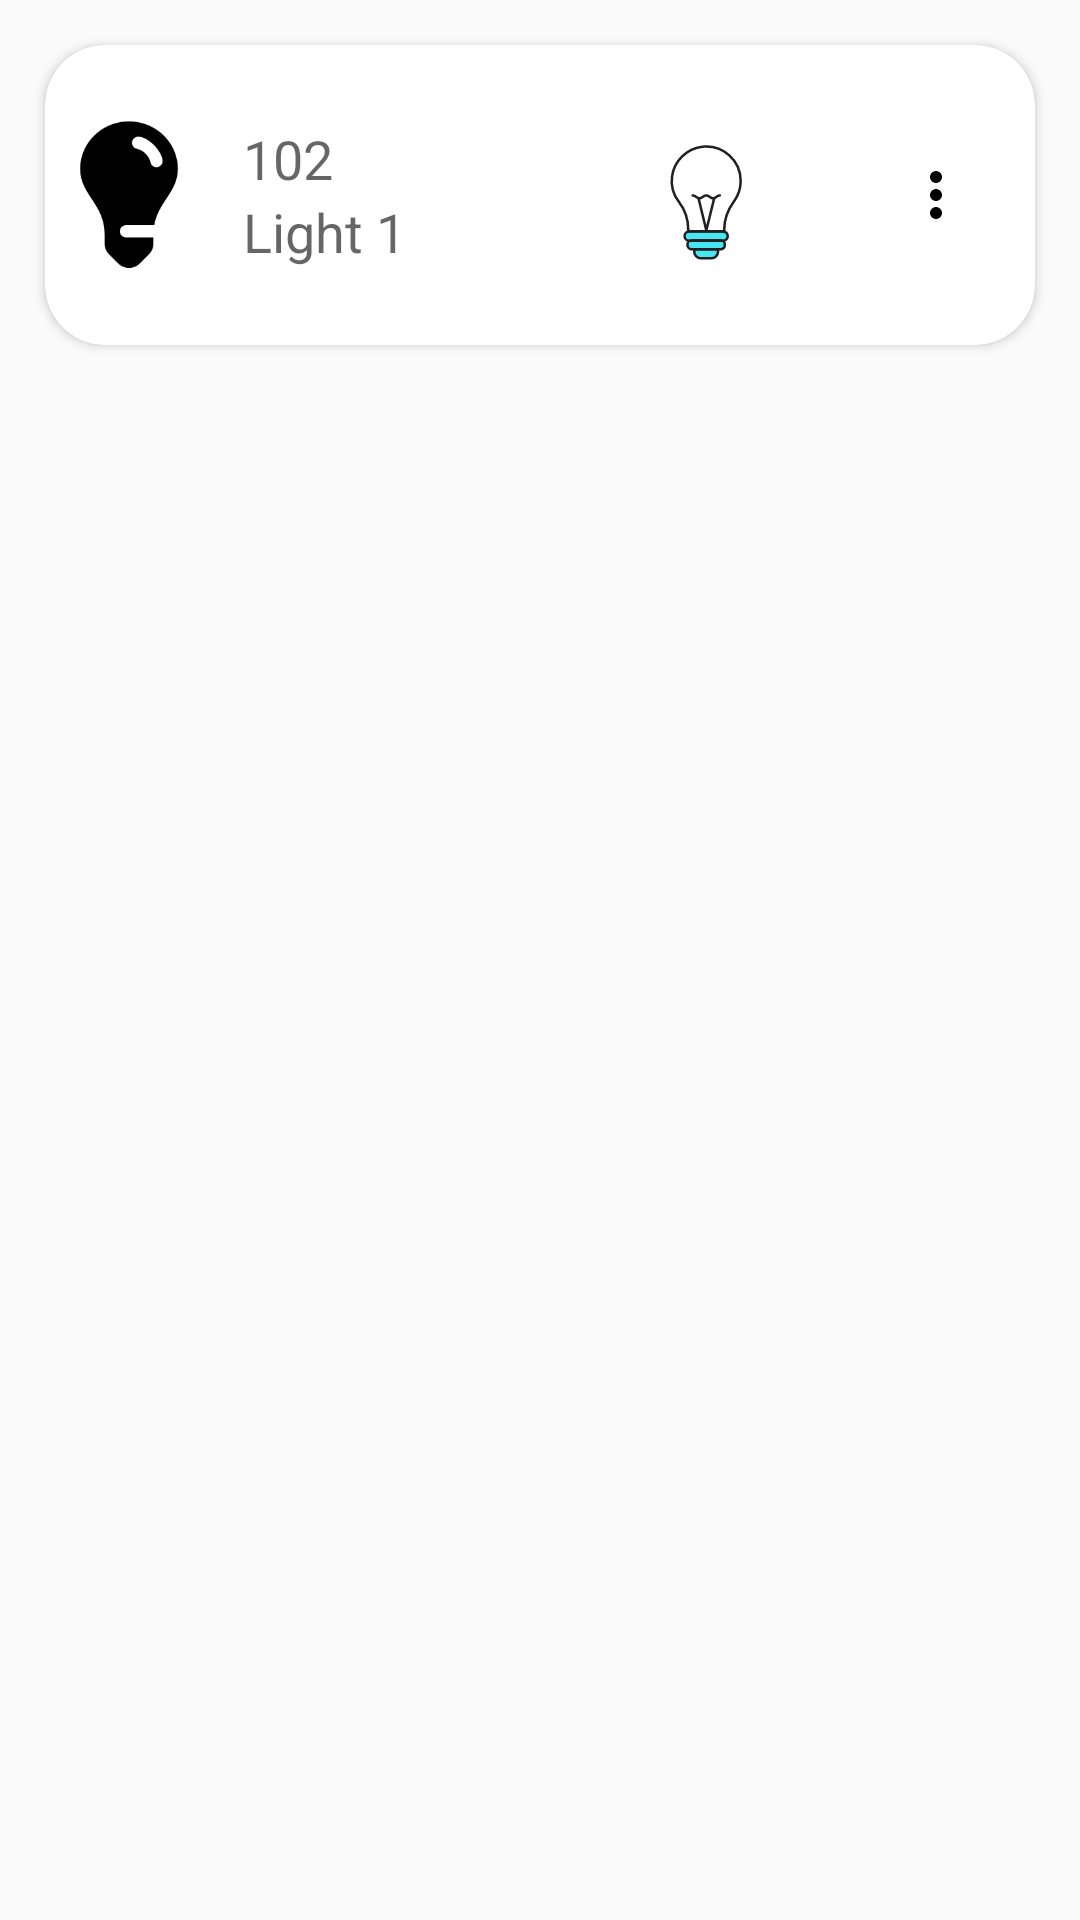

Locate icon controls on the screen. Image size 1080*1920, boxes as (x1, y1, x2, y2).
bulb: (78, 45, 178, 268)
bulb unglow: (670, 145, 742, 260)
dots option menu: (930, 171, 942, 219)
